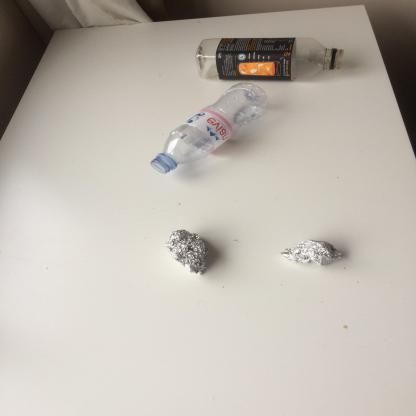metal: (162, 228, 210, 276), (278, 238, 344, 268)
plastik: (150, 82, 269, 174), (194, 36, 344, 82)
